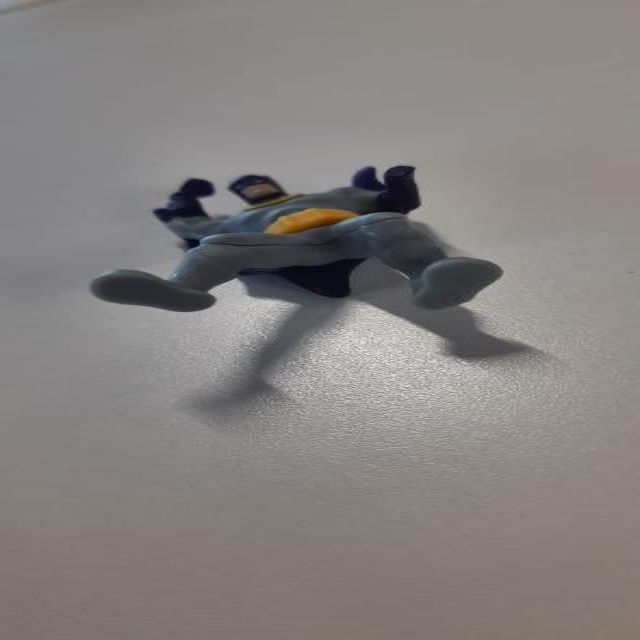Batman: (92, 160, 507, 312)
